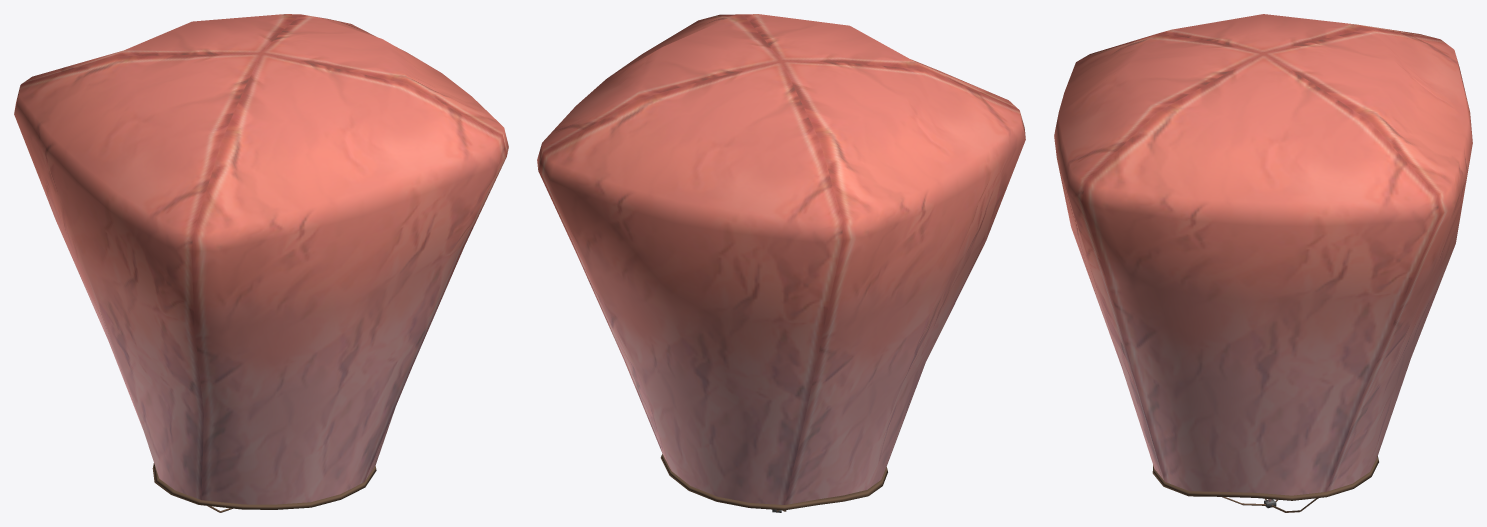
The model's file is Weapon_KongminLight_fbx.FBX.
The picture shows the model from 3 angles, left to right: view 1: azimuth 30°, elevation 25°; view 2: azimuth 150°, elevation 25°; view 3: azimuth 270°, elevation 25°; orthographic projection.
Parts seen in each view (by area): view 1: KongminLight; view 2: KongminLight; view 3: KongminLight.
Boxes of the visible parts, bbox=[...] form: KongminLight: bbox=[14, 14, 508, 512]; KongminLight: bbox=[537, 14, 1025, 512]; KongminLight: bbox=[1054, 14, 1472, 512].
Bounding box in the file's own units: 0.4017 × 0.4775 × 0.4011.
